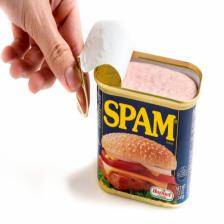spam: (80, 16, 203, 207)
